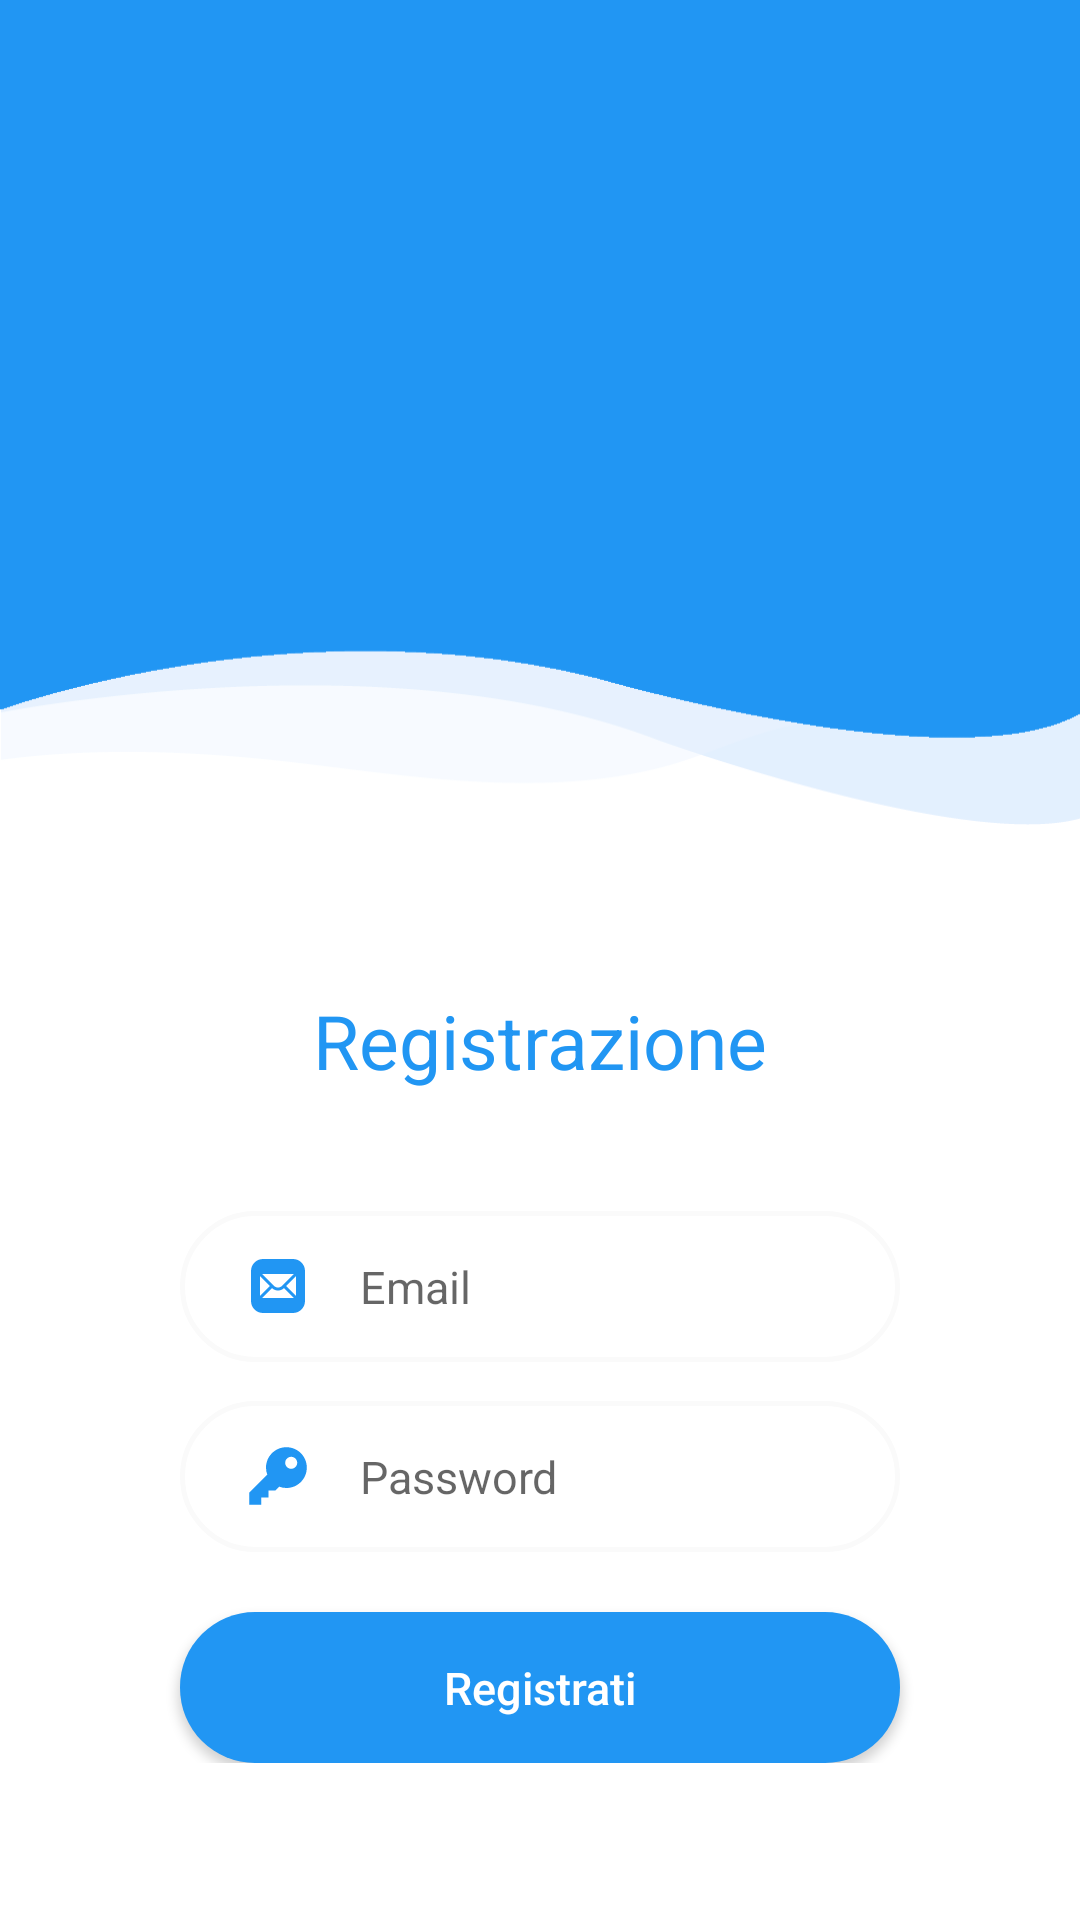

Icon bounding boxes for this 1080*1920 phone screenshot, format (x1, y1, x2, y2):
chiave: (249, 1447, 307, 1505)
